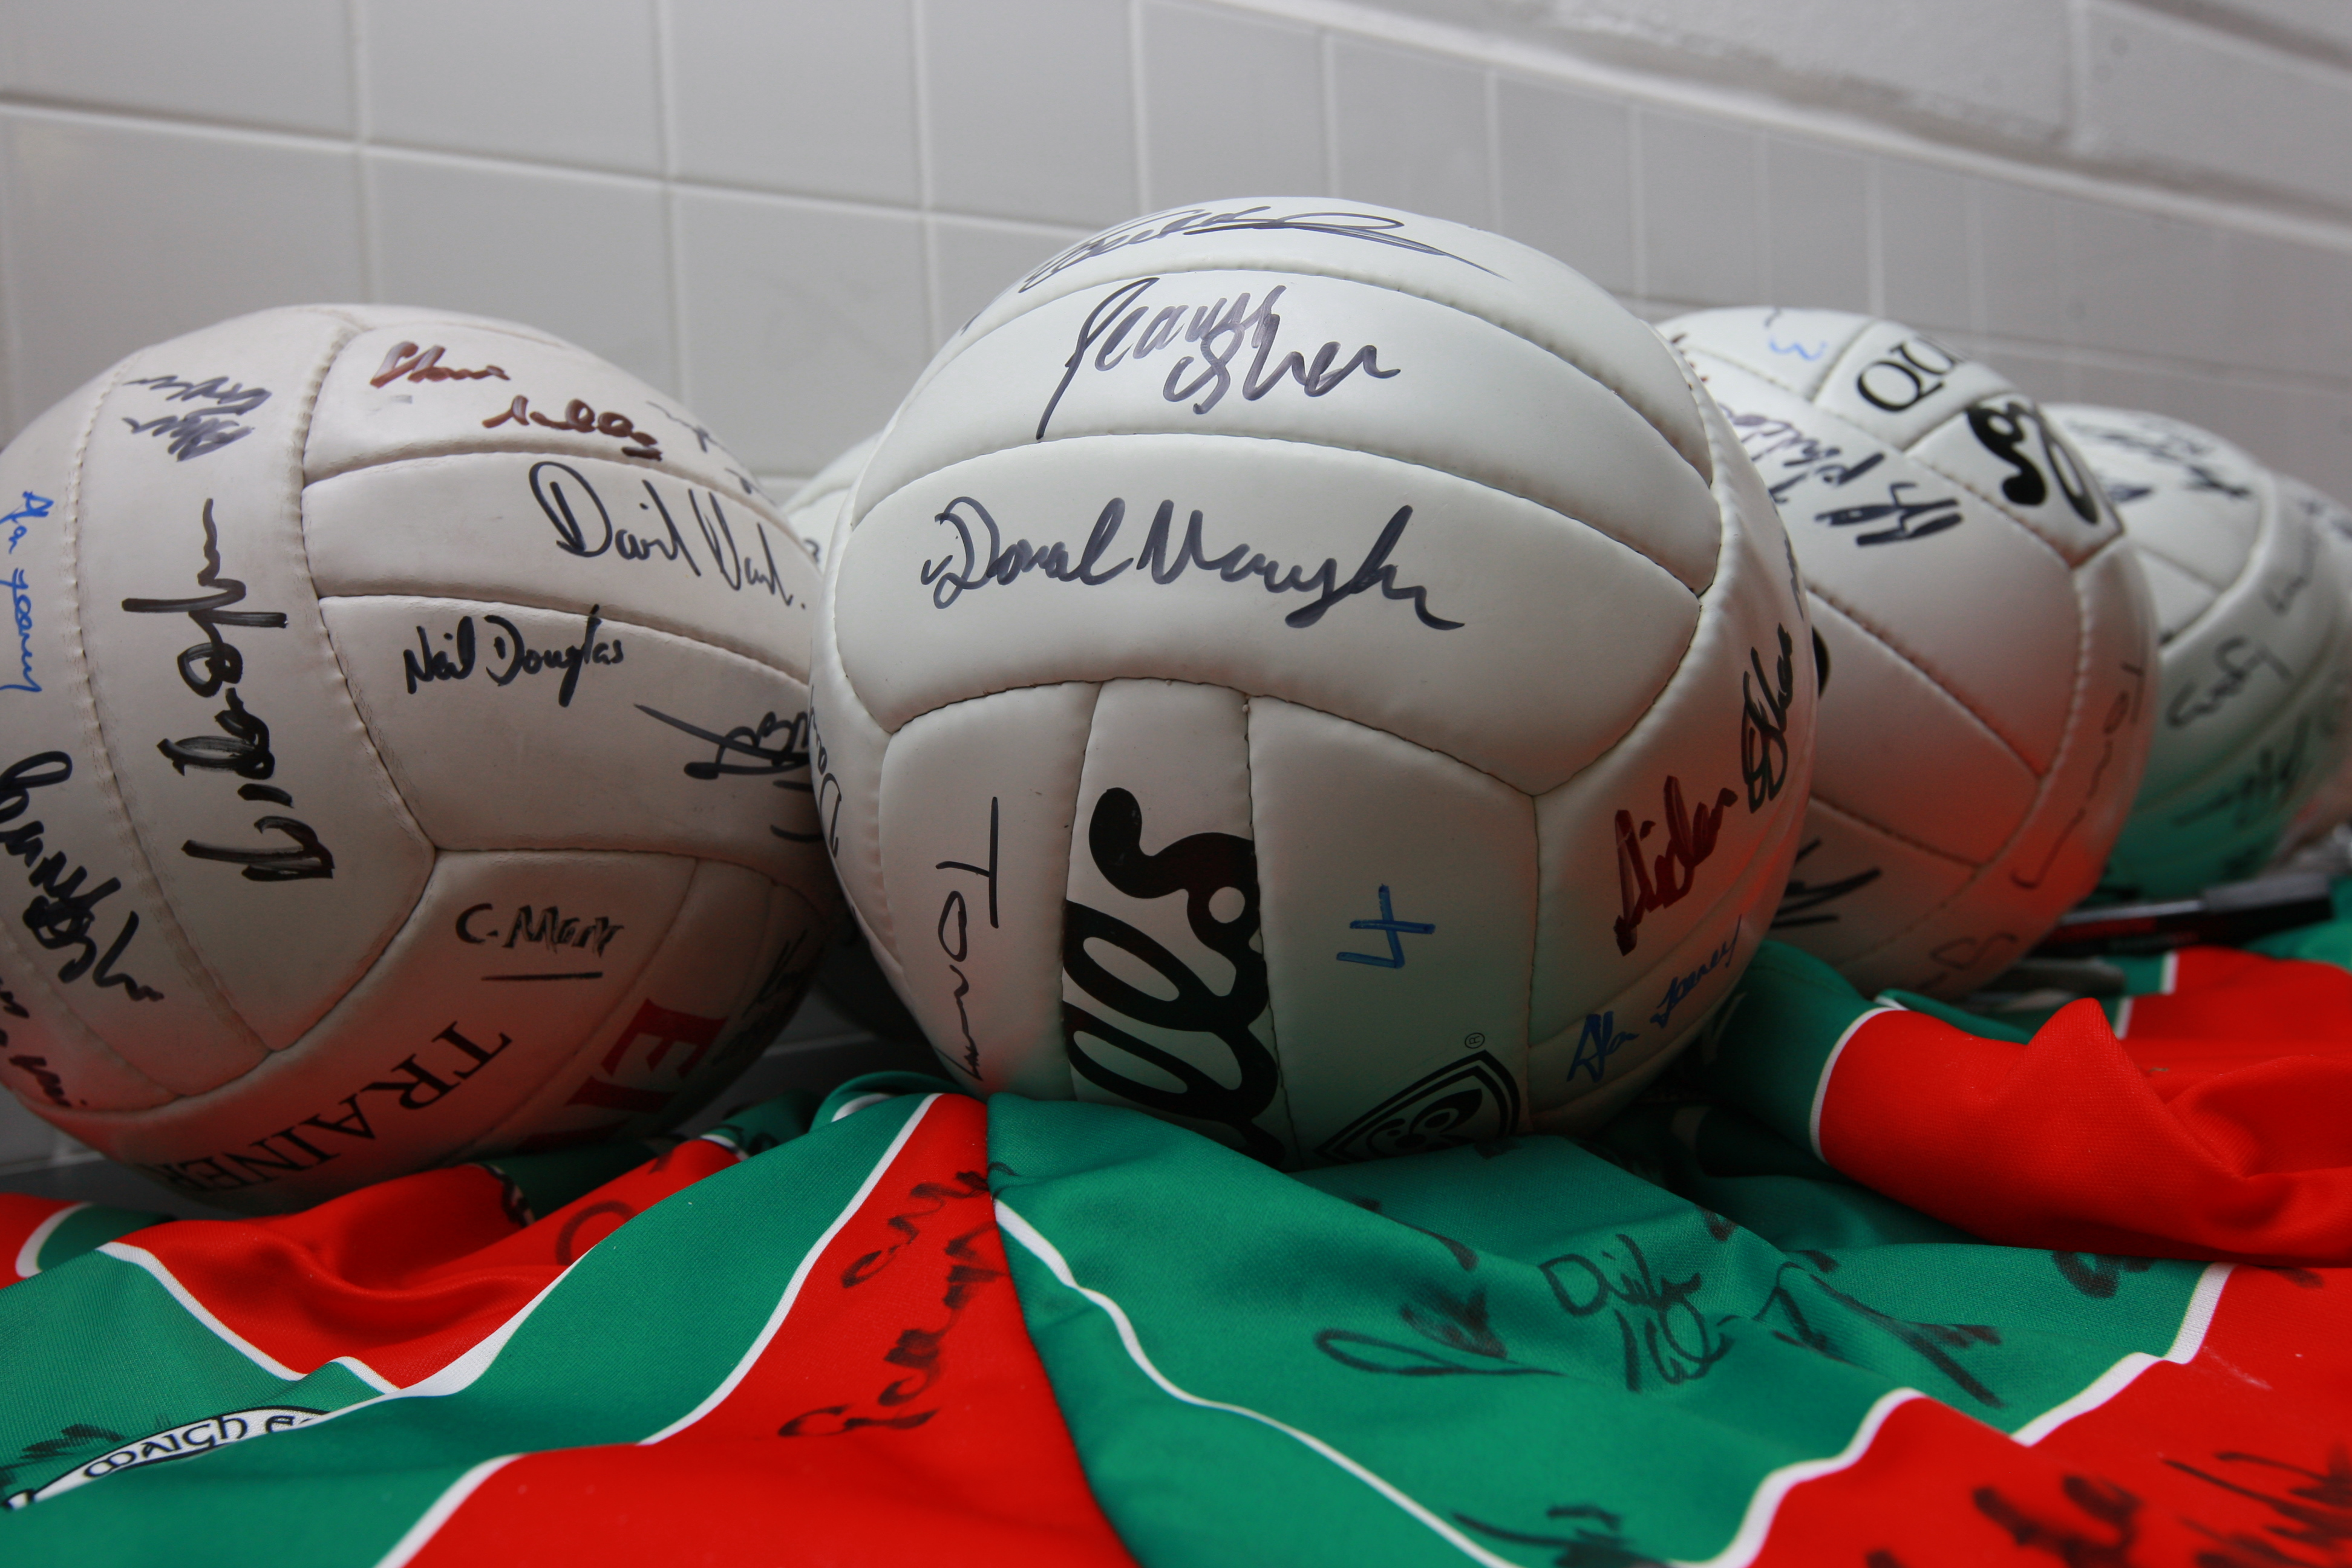ball: (852, 224, 1787, 1101), (3, 299, 800, 1108), (1650, 290, 2138, 955), (2012, 371, 2343, 868)
